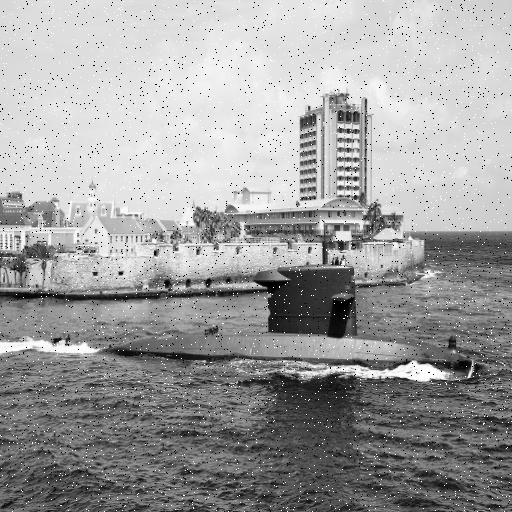submarine: (54, 236, 485, 381)
